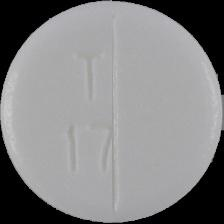61919-321: (0, 0, 224, 224)
